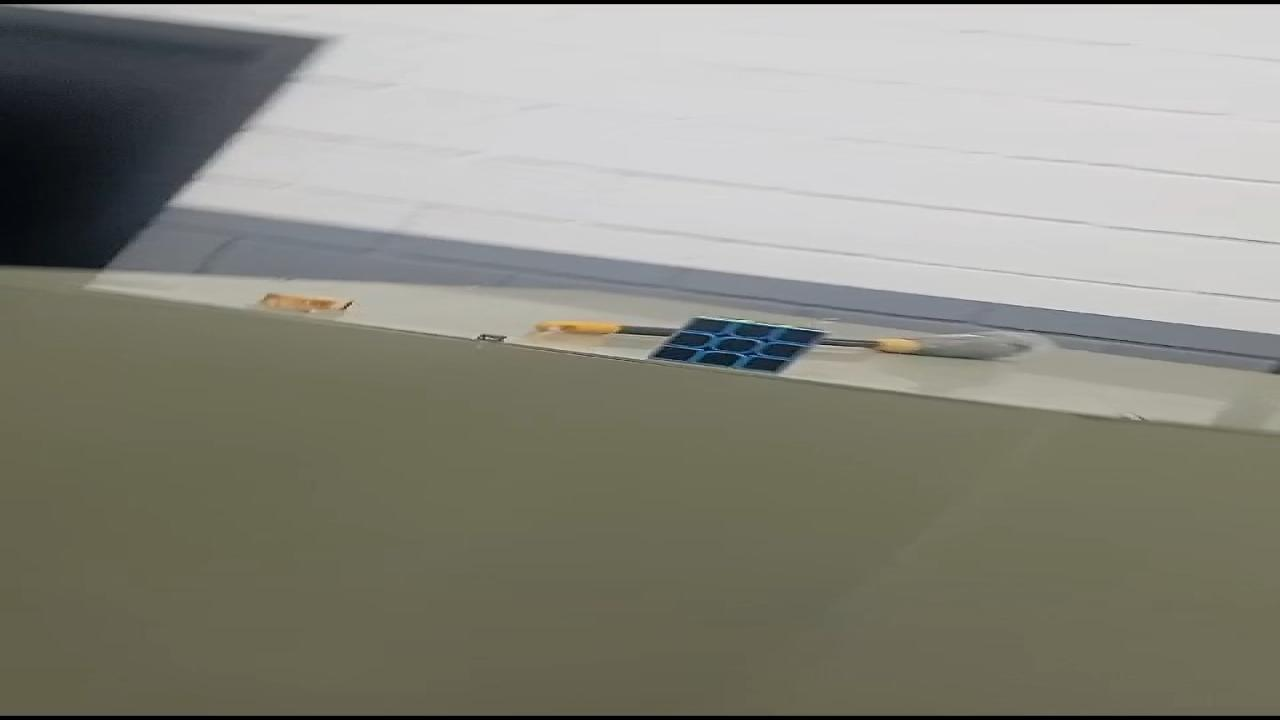Cube: (643, 314, 829, 374)
